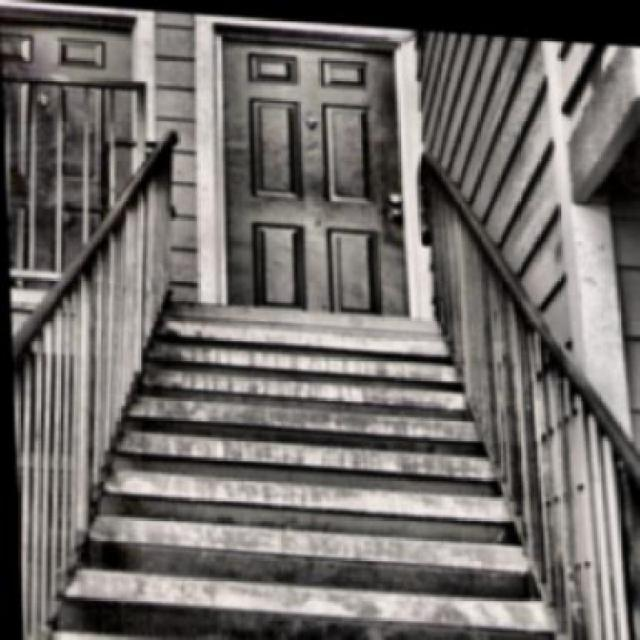stair: (115, 264, 457, 638)
